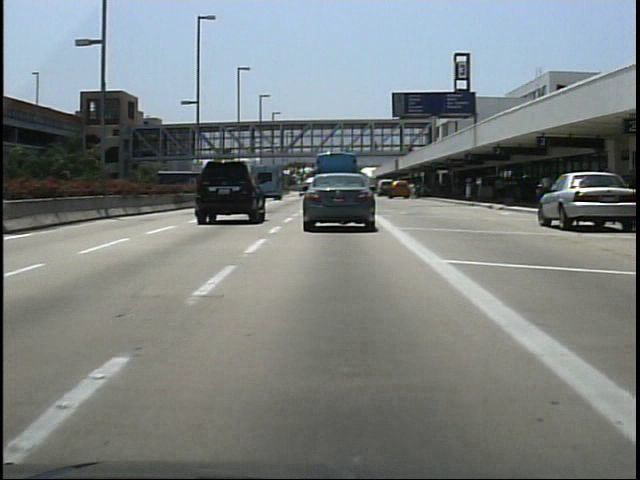person: (536, 169, 555, 210), (491, 174, 508, 207), (405, 178, 421, 205), (370, 137, 383, 158), (336, 136, 349, 156)
